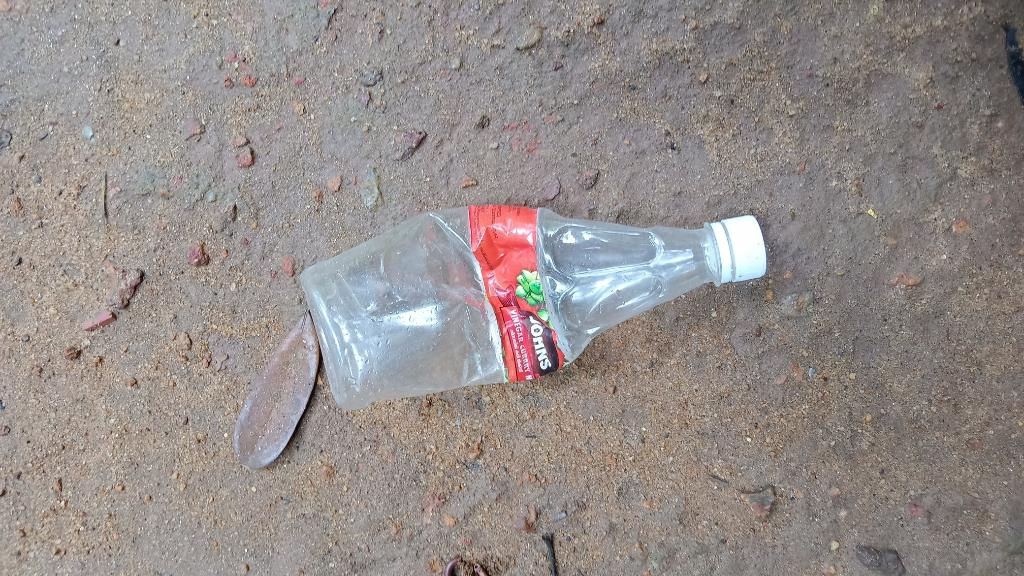garbage: (259, 167, 782, 412)
